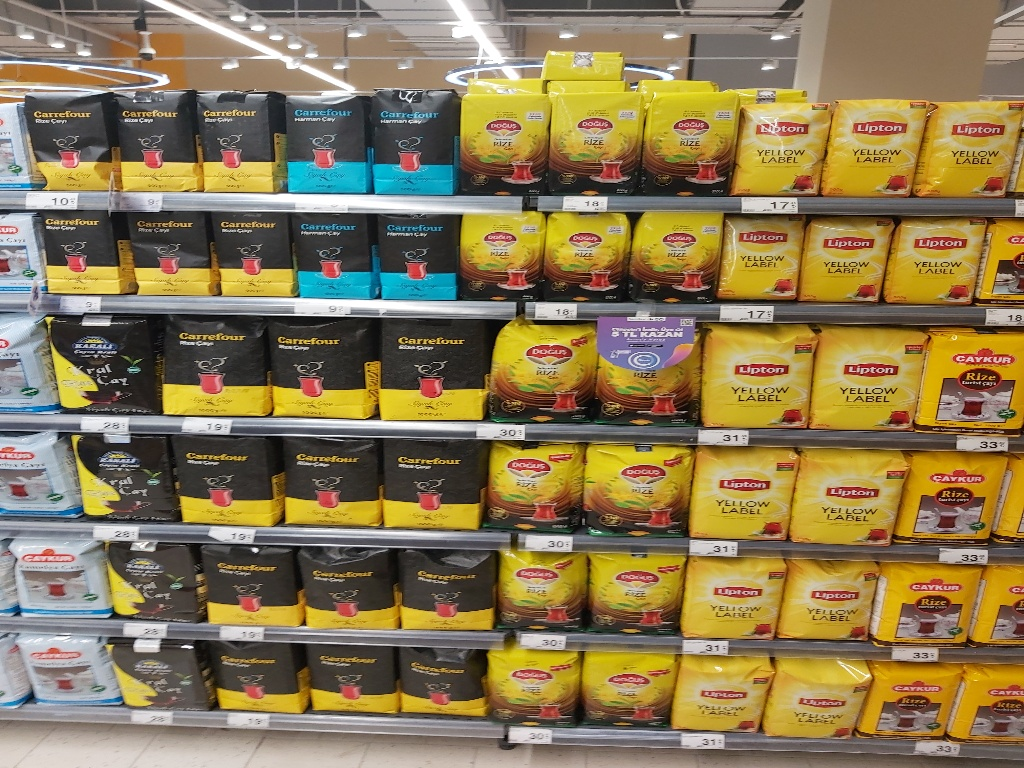urun: (810, 316, 928, 439), (261, 308, 380, 428), (698, 317, 817, 436), (588, 307, 707, 426), (483, 310, 602, 429), (370, 307, 489, 426), (154, 310, 273, 429), (51, 303, 170, 422), (911, 321, 1024, 440), (795, 442, 910, 549), (637, 86, 744, 197), (819, 90, 928, 196), (63, 422, 173, 527), (170, 424, 279, 529), (476, 426, 585, 531), (581, 433, 690, 538), (273, 428, 383, 532), (689, 438, 797, 543), (381, 428, 490, 532), (895, 442, 1005, 545), (109, 78, 204, 188), (279, 81, 374, 191), (454, 79, 549, 189), (549, 81, 644, 191), (881, 212, 993, 305), (195, 82, 289, 192), (364, 79, 458, 189), (294, 540, 401, 635), (923, 87, 1018, 193), (733, 96, 833, 196), (877, 559, 993, 645), (200, 536, 305, 631), (394, 541, 499, 636), (764, 655, 872, 744), (576, 640, 678, 733), (488, 541, 593, 630), (581, 547, 686, 635), (686, 545, 786, 637), (781, 553, 881, 645), (5, 531, 109, 617), (102, 539, 206, 625), (33, 205, 129, 296), (283, 207, 379, 298), (371, 212, 467, 303), (630, 207, 727, 297), (120, 204, 216, 294), (200, 204, 296, 294), (457, 209, 550, 300), (539, 210, 632, 301), (714, 211, 806, 302), (800, 209, 892, 300), (114, 632, 216, 714), (204, 635, 306, 717), (297, 634, 399, 716), (388, 635, 490, 717), (673, 648, 771, 733), (484, 643, 586, 724), (856, 659, 959, 735), (15, 626, 106, 712), (1, 421, 78, 521), (948, 662, 1024, 744), (1, 306, 55, 410)
urun2: (22, 82, 116, 192)
